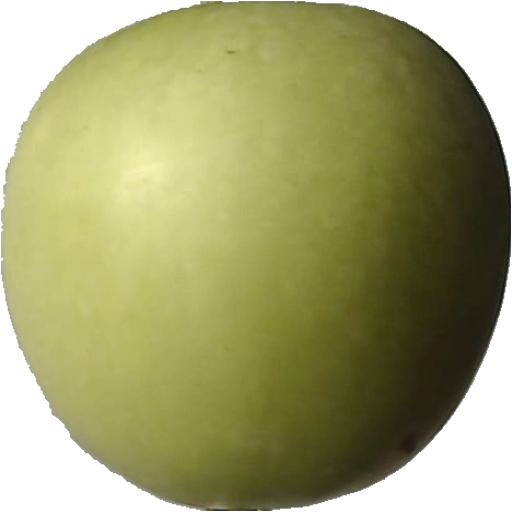apple-unripe: (0, 3, 512, 497)
